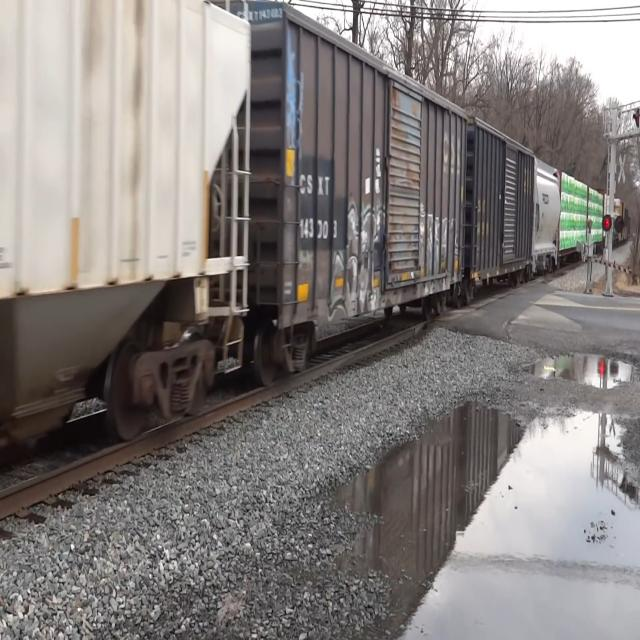boxcar: (250, 0, 467, 379), (469, 116, 538, 307)
hopper: (0, 4, 251, 464), (535, 155, 565, 274)
